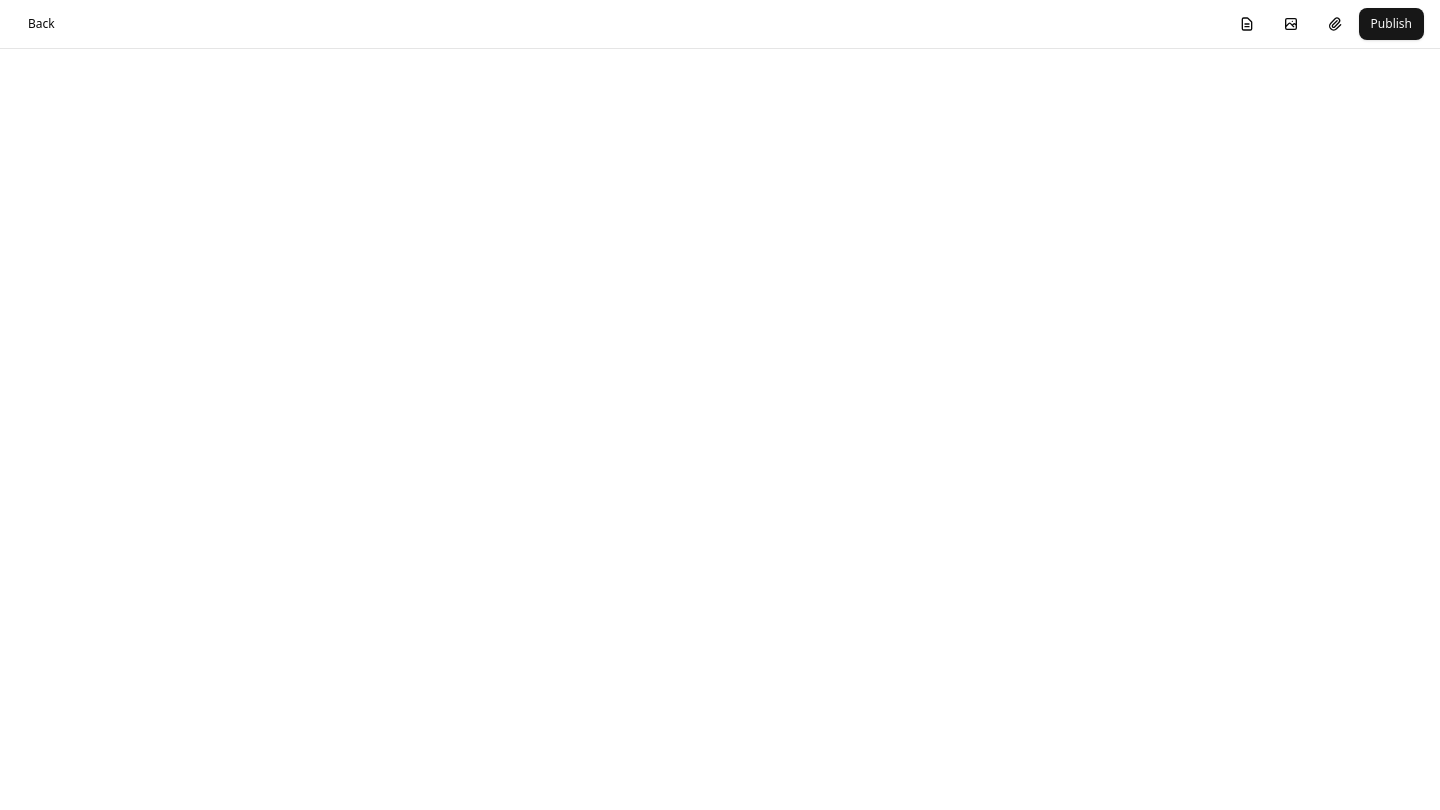
Test case: ComposePage › drafts panel › opens drafts panel and shows drafts list
What coordinates should you click on to do the following:
click the button with test id "drafts-btn"
I would click on:
 (1247, 24)
Its box is left=1227, top=8, right=1267, bottom=40.
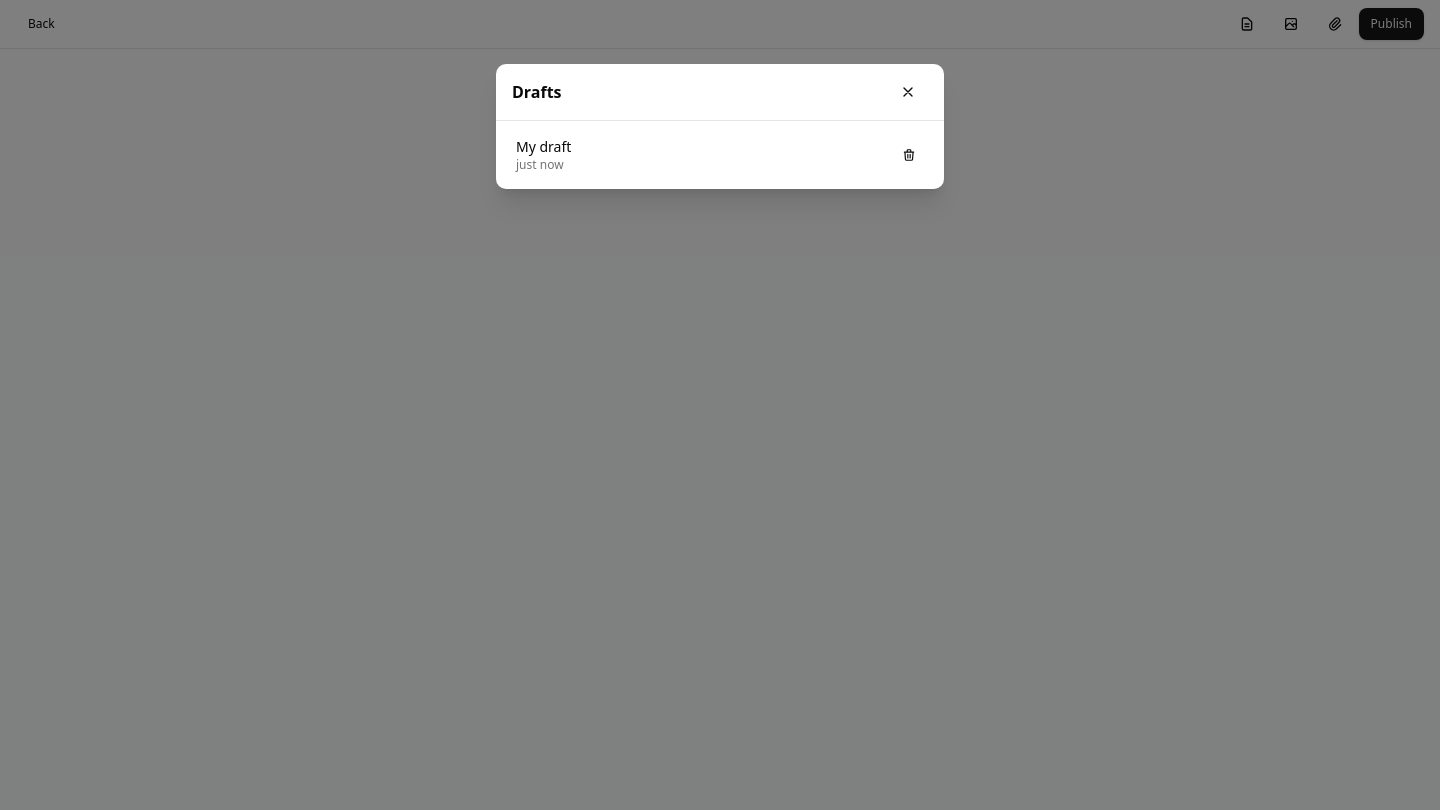
Result: the element with test id "drafts-panel" is shown
Result: the heading "Drafts" is shown at left=512, top=80, right=562, bottom=104
Result: the text "My draft" is shown at left=516, top=137, right=571, bottom=156
